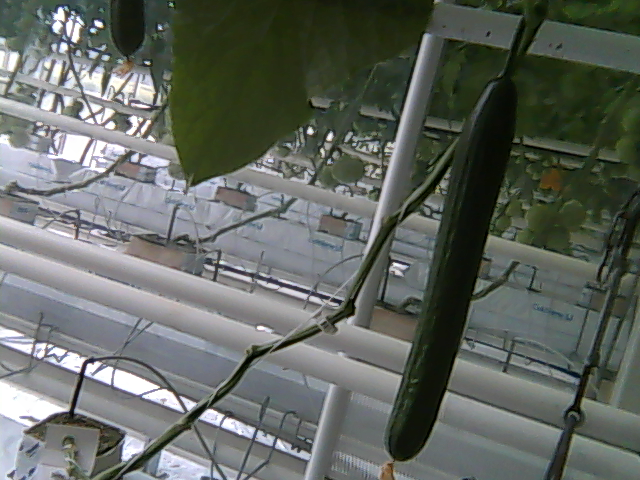concombre: (379, 67, 522, 480), (103, 1, 150, 79)
